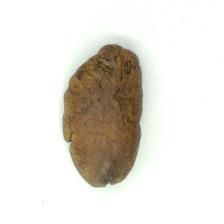NG: (63, 44, 121, 188)
